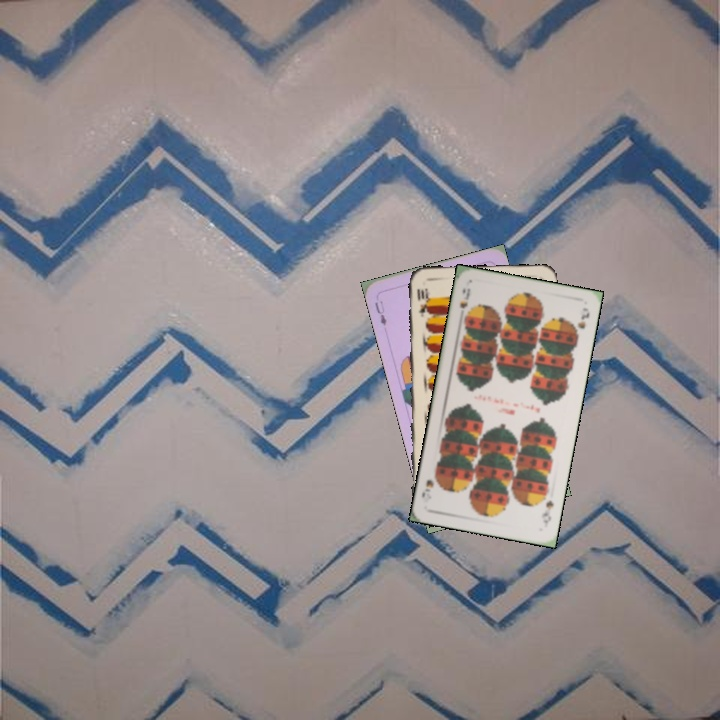E10: (413, 284, 432, 319)
EU: (371, 297, 389, 328)
S9: (538, 496, 556, 530), (456, 283, 473, 311)
